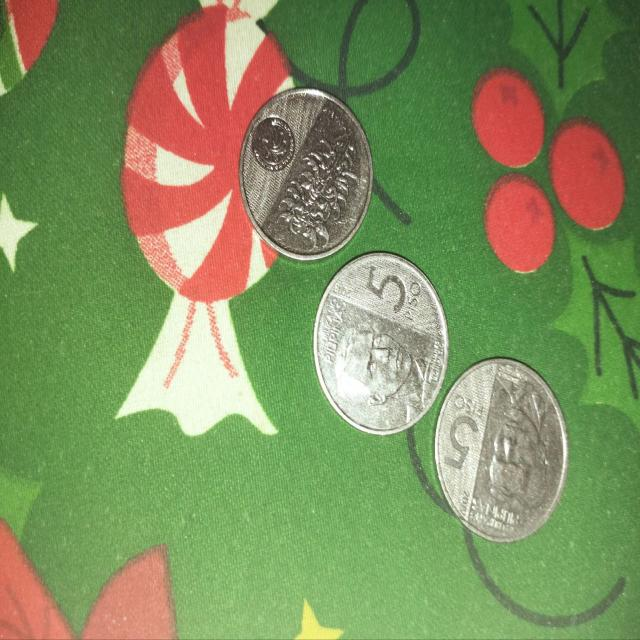5 peso: (240, 74, 377, 264), (433, 359, 570, 541), (314, 253, 448, 434)
